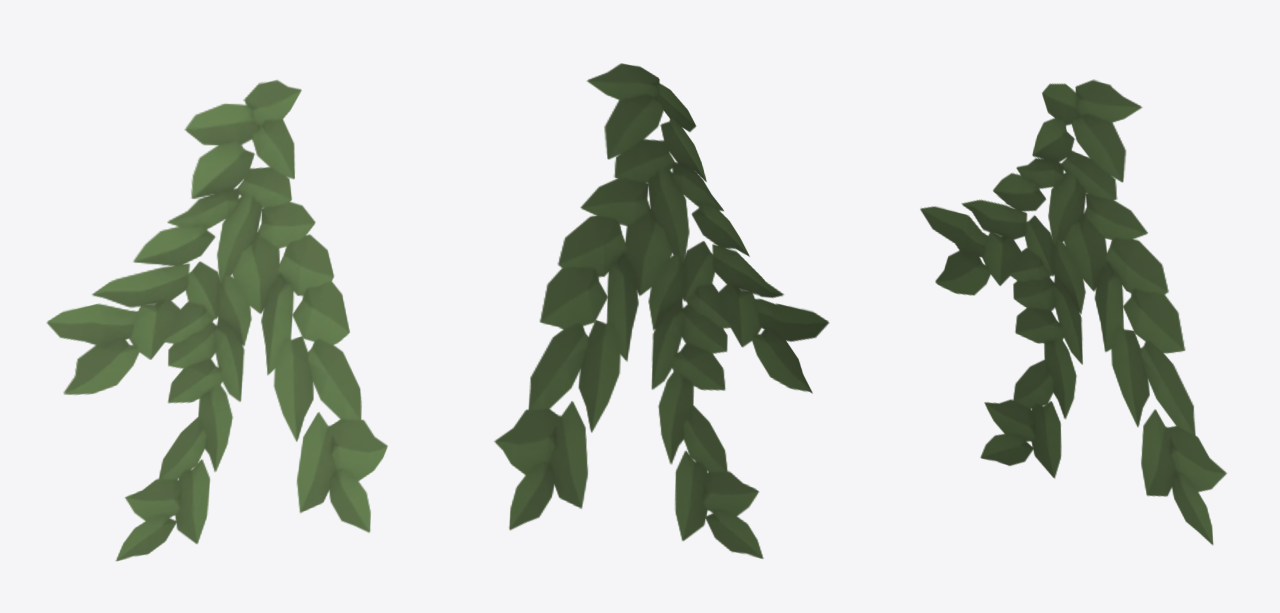
The model's file is elven_SM_Env_Leaves_Clump_05.gltf.
3 renders of one model, left to right at view 1: azimuth 30°, elevation 25°; view 2: azimuth 150°, elevation 25°; view 3: azimuth 330°, elevation 25°, orthographic. The views are drawn at different scales.
Visible parts, largest first — view 1: SM_Env_Leaves_Clump_05; view 2: SM_Env_Leaves_Clump_05; view 3: SM_Env_Leaves_Clump_05.
Part boxes in pixels (x1=…): SM_Env_Leaves_Clump_05: x1=46, y1=80, x2=387, y2=561; SM_Env_Leaves_Clump_05: x1=494, y1=63, x2=829, y2=558; SM_Env_Leaves_Clump_05: x1=920, y1=79, x2=1226, y2=545.
Size of the model in its own units: 1.01 by 1.38 by 0.088.
Materials: 1 (1 with a texture image).
